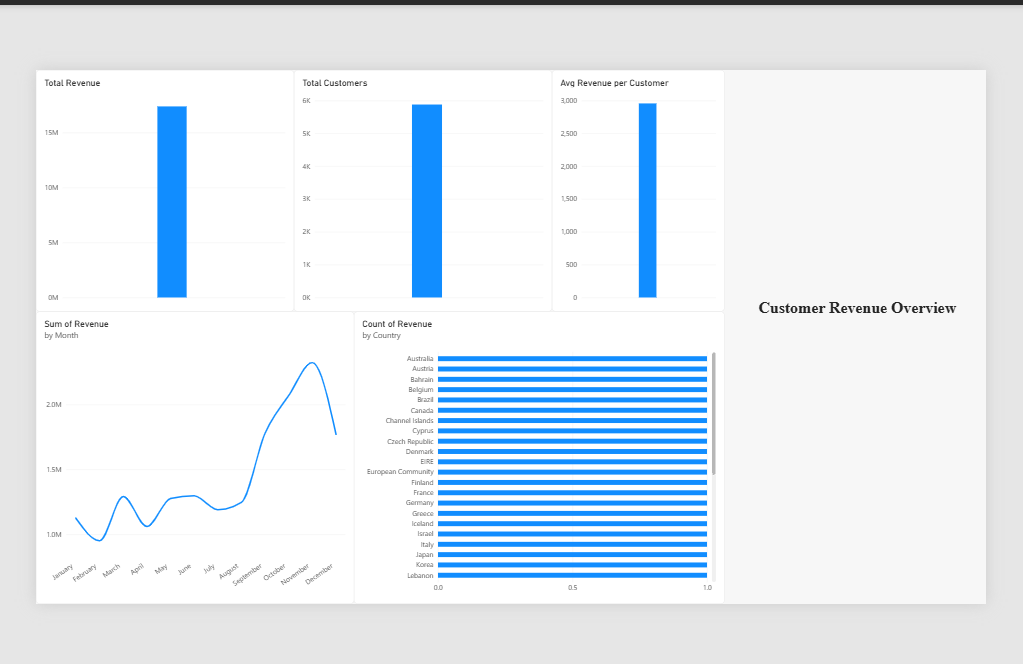

The dashboard page shown, as its layout file describes it:
{"tool":"powerbi","page":{"name":"Overview","canvas":[1920,1080],"ordinal":0},"visuals":[{"type":"clusteredColumnChart","fields":{"Y":["rfm_segments.Total Revenue"]},"box":[0,0,521.2,487.9],"z":0},{"type":"clusteredColumnChart","fields":{"Y":["rfm_segments.Total Customers"]},"box":[521.2,0,521.2,487.9],"z":1000},{"type":"clusteredColumnChart","fields":{"Y":["rfm_segments.Avg Revenue per Customer"]},"box":[1042.4,0,348.5,487.9],"z":2000},{"type":"lineChart","fields":{"Category":["monthly_revenue.Month.Variation.Date Hierarchy.Month"],"Y":["Sum(monthly_revenue.Revenue)"]},"box":[0,487.9,642.4,590.9],"z":3000},{"type":"clusteredBarChart","fields":{"Category":["country_revenue.Country"],"Y":["CountNonNull(country_revenue.Revenue)"]},"box":[642.4,487.9,748.5,590.9],"z":4000},{"type":"textbox","box":[1433.3,424.2,451.5,154.5],"z":4001}]}

Visuals, with their boxes on the page's 1920x1080 design canvas (x1, y1, x2, y2). These are canvas units, not pixel positions in the 1023x664 screenshot, which may show the page scaled, cropped or inside an application window:
clusteredColumnChart - rfm_segments.Total Revenue: [x1=0, y1=0, x2=521, y2=488]
clusteredColumnChart - rfm_segments.Total Customers: [x1=521, y1=0, x2=1042, y2=488]
clusteredColumnChart - rfm_segments.Avg Revenue per Customer: [x1=1042, y1=0, x2=1391, y2=488]
lineChart - monthly_revenue.Month.Variation.Date Hierarchy.Month x Sum(monthly_revenue.Revenue): [x1=0, y1=488, x2=642, y2=1079]
clusteredBarChart - country_revenue.Country x CountNonNull(country_revenue.Revenue): [x1=642, y1=488, x2=1391, y2=1079]
textbox: [x1=1433, y1=424, x2=1885, y2=579]
